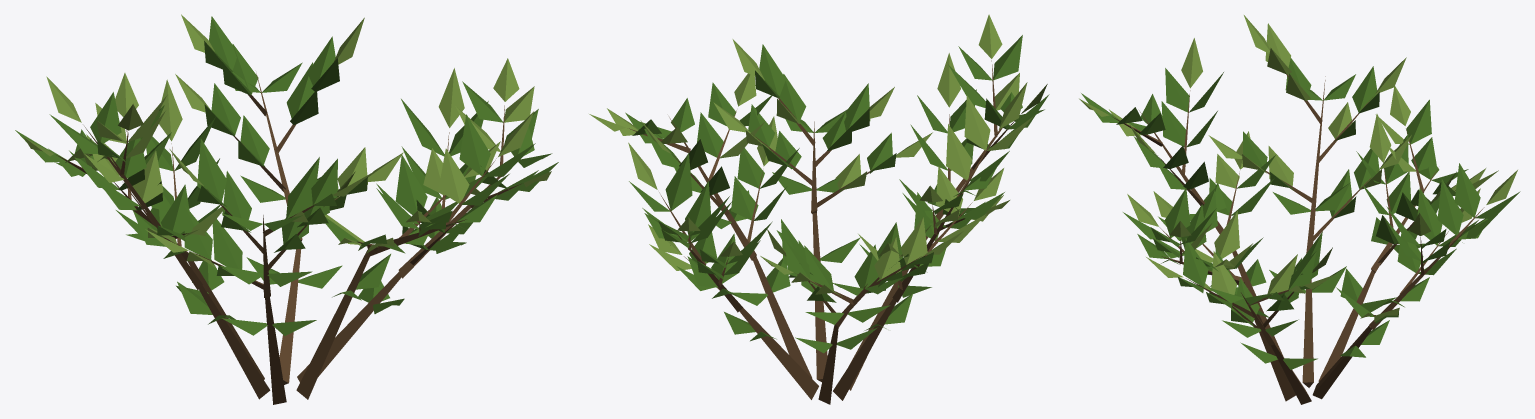
The model's file is bush-7.glb.
The picture shows the model from 3 angles, left to right: view 1: azimuth 30°, elevation 25°; view 2: azimuth 150°, elevation 25°; view 3: azimuth 270°, elevation 25°; orthographic projection. The views are drawn at different scales.
Visible parts, largest first — view 1: bush-7-lod0; view 2: bush-7-lod0; view 3: bush-7-lod0.
Part boxes in pixels (left/top/right/bottom): bush-7-lod0: left=15, top=14, right=558, bottom=404; bush-7-lod0: left=589, top=14, right=1049, bottom=404; bush-7-lod0: left=1079, top=15, right=1520, bottom=404.
Bounding box in the file's own units: 3.14 × 2.4 × 3.14.
